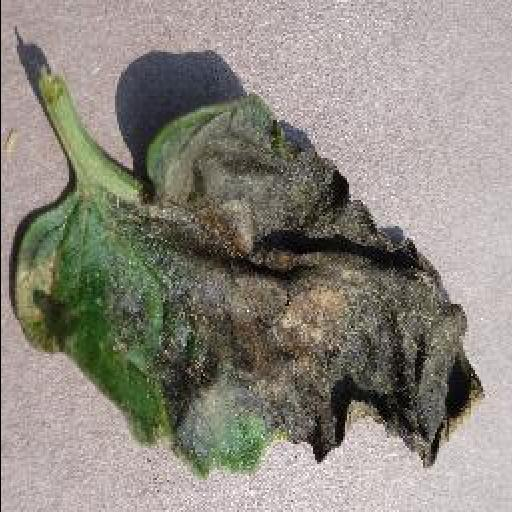disease_tomato: (10, 100, 488, 474)
